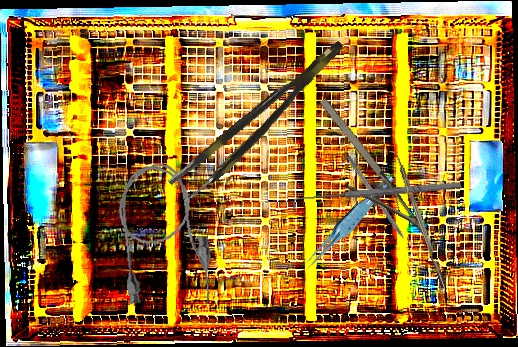Cannula: (110, 158, 218, 315)
Chopper: (387, 148, 447, 291)
Hook Surgical: (345, 154, 413, 252), (291, 179, 463, 211)
Needle Holder: (297, 95, 429, 256)
Tissue Forceps: (167, 38, 357, 205), (294, 173, 402, 272)
